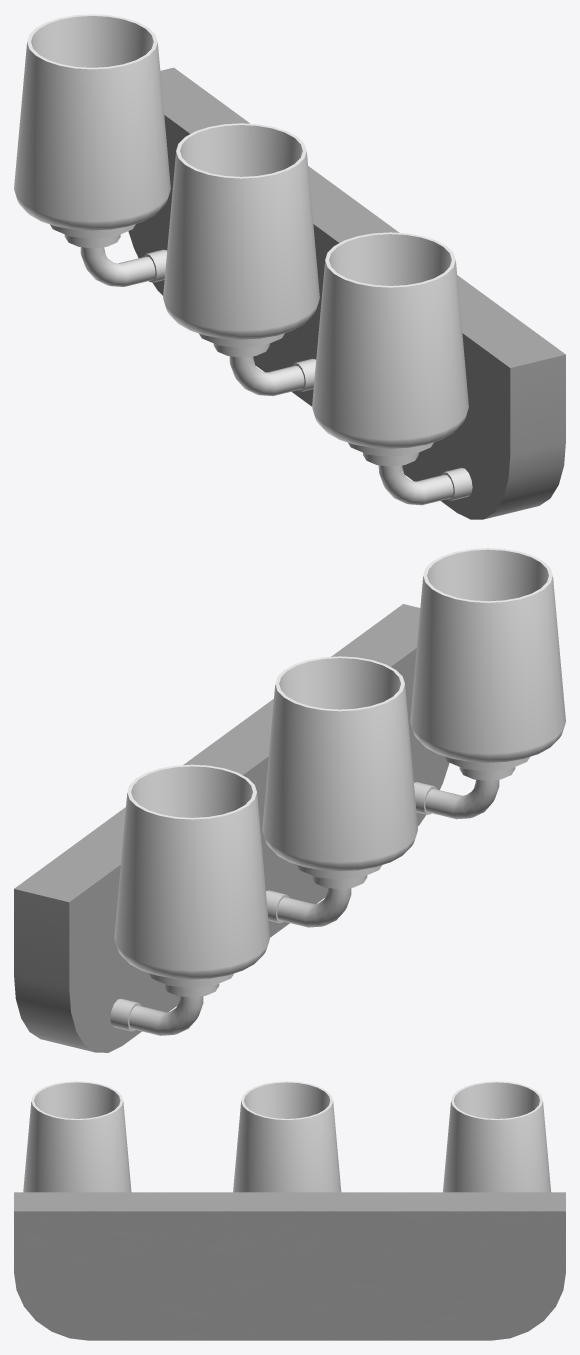
The model's file is Light_Windom_chrome.glb.
3 views of the same model, one above another, from view 1: azimuth 30°, elevation 25°; view 2: azimuth 150°, elevation 25°; view 3: azimuth 270°, elevation 25° (orthographic). The views are drawn at different scales.
Visible parts, largest first — view 1: Lamp_nickel; view 2: Lamp_nickel; view 3: Lamp_nickel.
Part boxes in pixels (x1,y1,x2,y2): Lamp_nickel: [14, 14, 565, 519]; Lamp_nickel: [14, 548, 565, 1052]; Lamp_nickel: [14, 1081, 565, 1340].
Size of the model in its own units: 0.3052 by 0.4075 by 1.04.
Materials: 3 (1 with a texture image).
